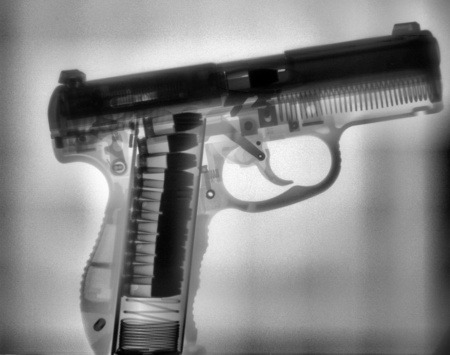gun: (37, 19, 449, 354)
